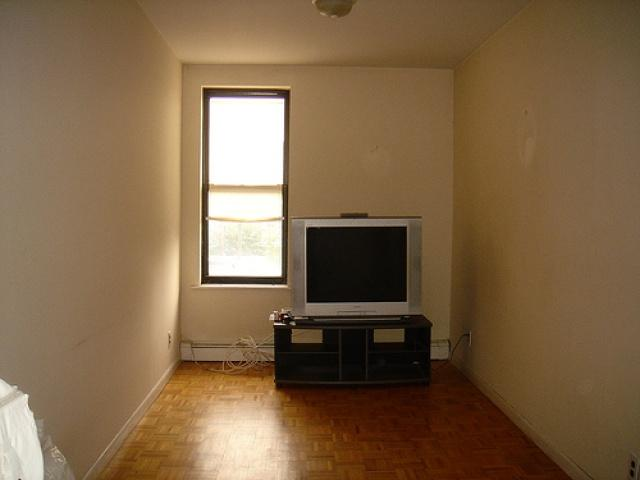AIO PC-Monitor-TV: (291, 215, 423, 320)
